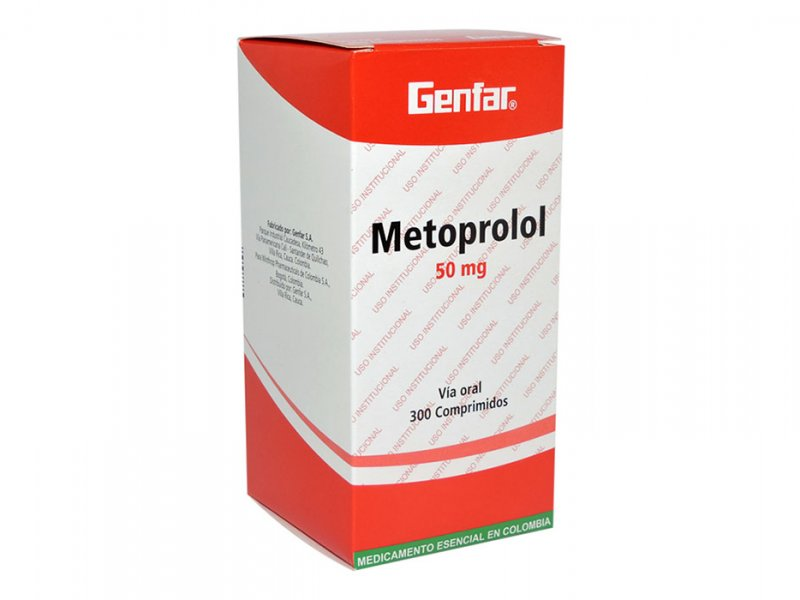Genfar: (352, 52, 565, 573)
